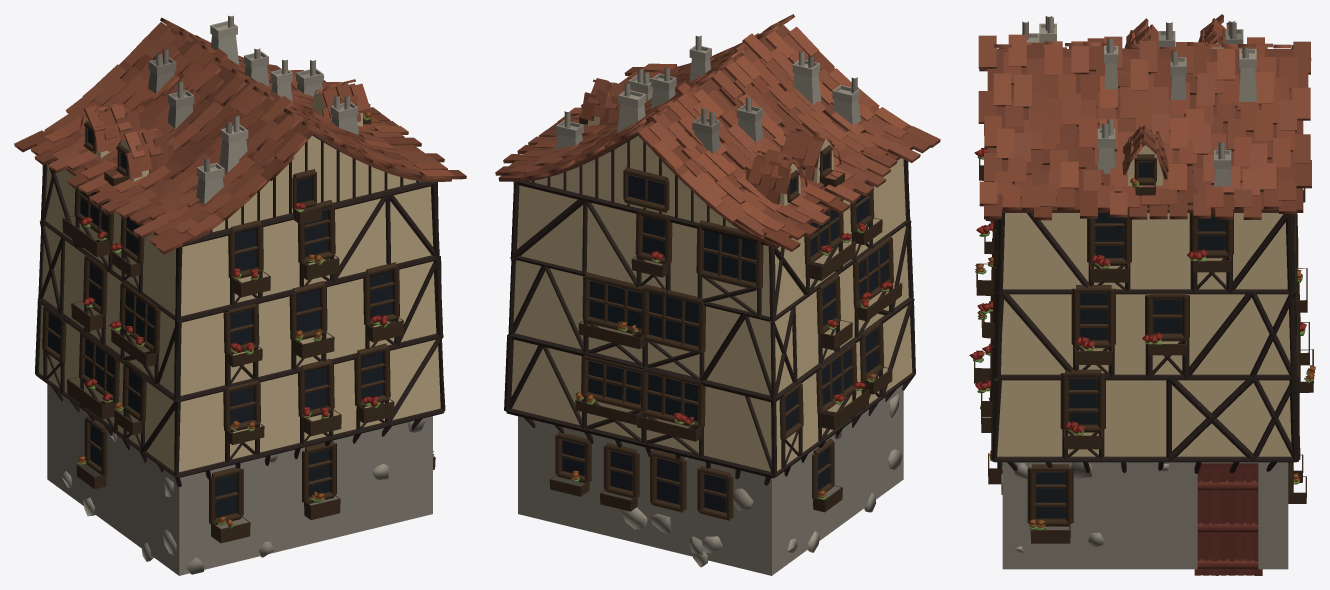
Rendered from house_12.glb.
The picture shows the model from 3 angles, left to right: view 1: azimuth 30°, elevation 25°; view 2: azimuth 150°, elevation 25°; view 3: azimuth 270°, elevation 25°; orthographic projection. The views are drawn at different scales.
Visible parts, largest first — view 1: house_12; view 2: house_12; view 3: house_12.
Part boxes in pixels (x1,y1,x2,y2): house_12: (14,15,466,575); house_12: (495,14,940,575); house_12: (969,14,1315,575).
Bounding box in the file's own units: 7.01 × 9.86 × 6.3.
